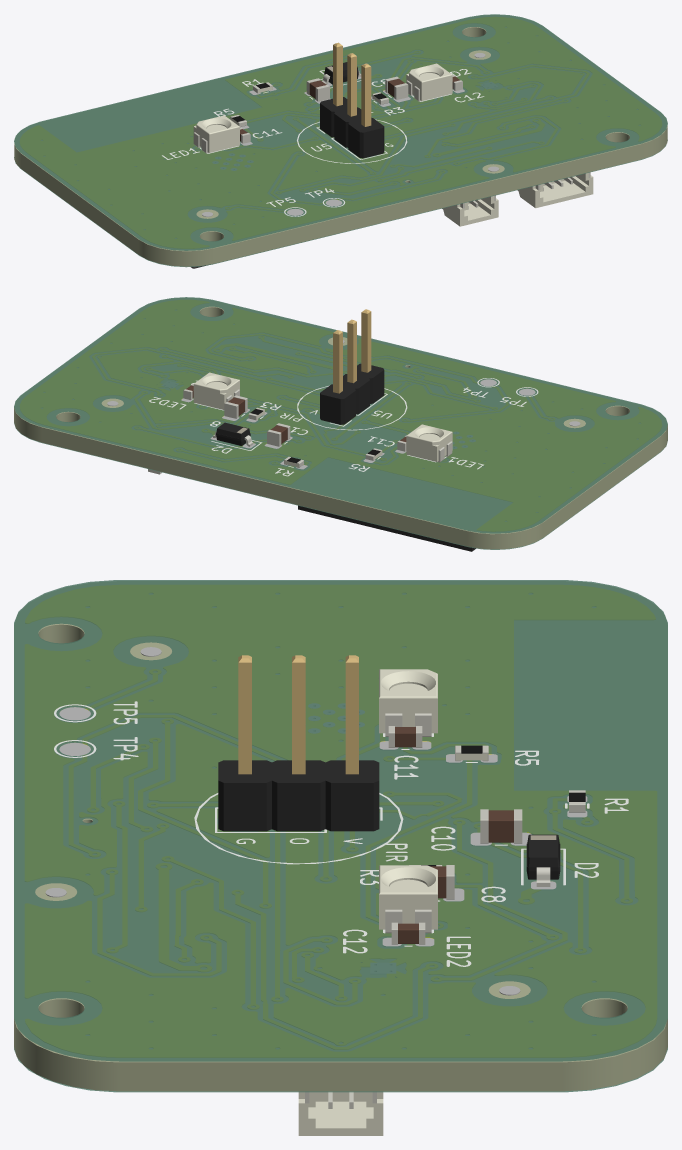
The model's file is board.glb.
3 views of the same model, one above another, from view 1: azimuth 30°, elevation 25°; view 2: azimuth 150°, elevation 25°; view 3: azimuth 270°, elevation 25° (orthographic). The views are drawn at different scales.
Visible parts, largest first — view 1: =>[0:1:1:35], =>[0:1:1:30]_dc4055, =>[0:1:1:37]_62ff9c, =>[0:1:1:37]_f1c190, =>[0:1:1:30]_86c952, =>[0:1:1:37]_dfe047, =>[0:1:1:37]_5b45fd, =>[0:1:1:36]_21864c, =>[0:1:1:11]_d1a700, =>[0:1:1:11], =>[0:1:1:5]_1_531ebe, =>[0:1:1:5]_312ee8 (+7 smaller); view 2: =>[0:1:1:35], =>[0:1:1:30]_dc4055, =>[0:1:1:37]_62ff9c, =>[0:1:1:37], =>[0:1:1:30]_86c952, =>[0:1:1:37]_dfe047, =>[0:1:1:37]_7f22b2, =>[0:1:1:29]_dce5b5, =>[0:1:1:36]_21864c, =>[0:1:1:11]_d1a700, =>[0:1:1:30]_a0edba, =>[0:1:1:11] (+7 smaller); view 3: =>[0:1:1:35], =>[0:1:1:30]_dc4055, =>[0:1:1:37]_62ff9c, =>[0:1:1:30]_86c952, =>[0:1:1:37]_43780f, =>[0:1:1:11], =>[0:1:1:37]_4cc7ed, =>[0:1:1:37]_d725e4, =>[0:1:1:11]_d1a700, =>[0:1:1:30]_a0edba, =>[0:1:1:11]_8e80a0, =>[0:1:1:19]_1_bf55b1 (+13 smaller).
Part boxes in pixels (x1=…): =>[0:1:1:35]: x1=14, y1=14, x2=667, y2=250; =>[0:1:1:30]_dc4055: x1=20, y1=17, x2=661, y2=247; =>[0:1:1:37]_62ff9c: x1=14, y1=15, x2=667, y2=251; =>[0:1:1:37]_f1c190: x1=215, y1=144, x2=639, y2=263; =>[0:1:1:30]_86c952: x1=377, y1=61, x2=583, y2=135; =>[0:1:1:37]_dfe047: x1=21, y1=154, x2=138, y2=254; =>[0:1:1:37]_5b45fd: x1=138, y1=240, x2=214, y2=266; =>[0:1:1:36]_21864c: x1=14, y1=140, x2=667, y2=267; =>[0:1:1:11]_d1a700: x1=320, y1=97, x2=383, y2=132; =>[0:1:1:11]: x1=333, y1=45, x2=359, y2=157; =>[0:1:1:5]_1_531ebe: x1=421, y1=75, x2=452, y2=100; =>[0:1:1:5]_312ee8: x1=209, y1=127, x2=239, y2=152; =>[0:1:1:35]: x1=14, y1=297, x2=667, y2=533; =>[0:1:1:30]_dc4055: x1=20, y1=300, x2=661, y2=530; =>[0:1:1:37]_62ff9c: x1=14, y1=298, x2=667, y2=534; =>[0:1:1:37]: x1=42, y1=427, x2=466, y2=546; =>[0:1:1:30]_86c952: x1=98, y1=351, x2=319, y2=422; =>[0:1:1:37]_dfe047: x1=543, y1=437, x2=660, y2=537; =>[0:1:1:37]_7f22b2: x1=467, y1=523, x2=543, y2=549; =>[0:1:1:29]_dce5b5: x1=298, y1=505, x2=471, y2=551; =>[0:1:1:36]_21864c: x1=14, y1=423, x2=667, y2=549; =>[0:1:1:11]_d1a700: x1=320, y1=363, x2=383, y2=398; =>[0:1:1:30]_a0edba: x1=239, y1=410, x2=314, y2=436; =>[0:1:1:11]: x1=339, y1=332, x2=384, y2=414; =>[0:1:1:35]: x1=14, y1=580, x2=667, y2=1061; =>[0:1:1:30]_dc4055: x1=25, y1=585, x2=656, y2=1056; =>[0:1:1:37]_62ff9c: x1=14, y1=581, x2=667, y2=1062; =>[0:1:1:30]_86c952: x1=274, y1=832, x2=545, y2=1044; =>[0:1:1:37]_43780f: x1=119, y1=1062, x2=562, y2=1091; =>[0:1:1:11]: x1=277, y1=656, x2=373, y2=831; =>[0:1:1:37]_4cc7ed: x1=562, y1=1019, x2=667, y2=1091; =>[0:1:1:37]_d725e4: x1=14, y1=1019, x2=119, y2=1091; =>[0:1:1:11]_d1a700: x1=218, y1=760, x2=379, y2=782; =>[0:1:1:30]_a0edba: x1=376, y1=819, x2=481, y2=881; =>[0:1:1:11]_8e80a0: x1=223, y1=783, x2=266, y2=831; =>[0:1:1:19]_1_bf55b1: x1=298, y1=1092, x2=383, y2=1135.
Bounding box in the file's own units: 0.054 × 0.0133 × 0.031.
